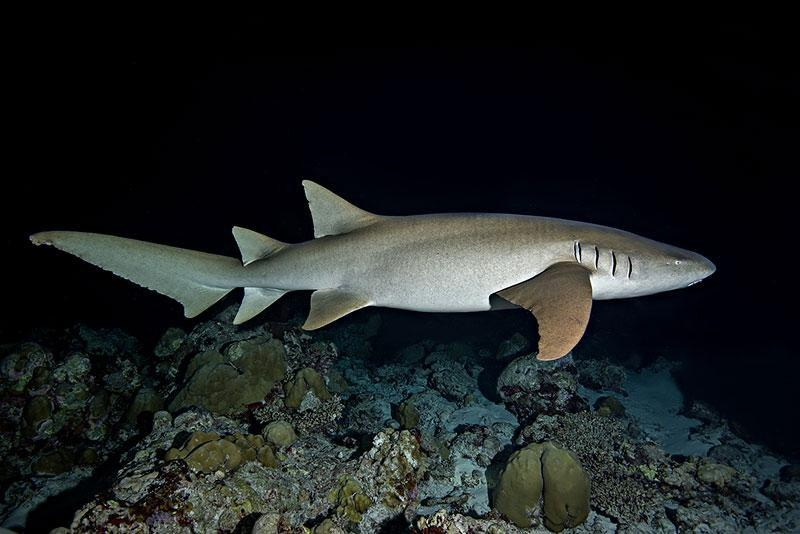fish: (16, 192, 720, 369)
